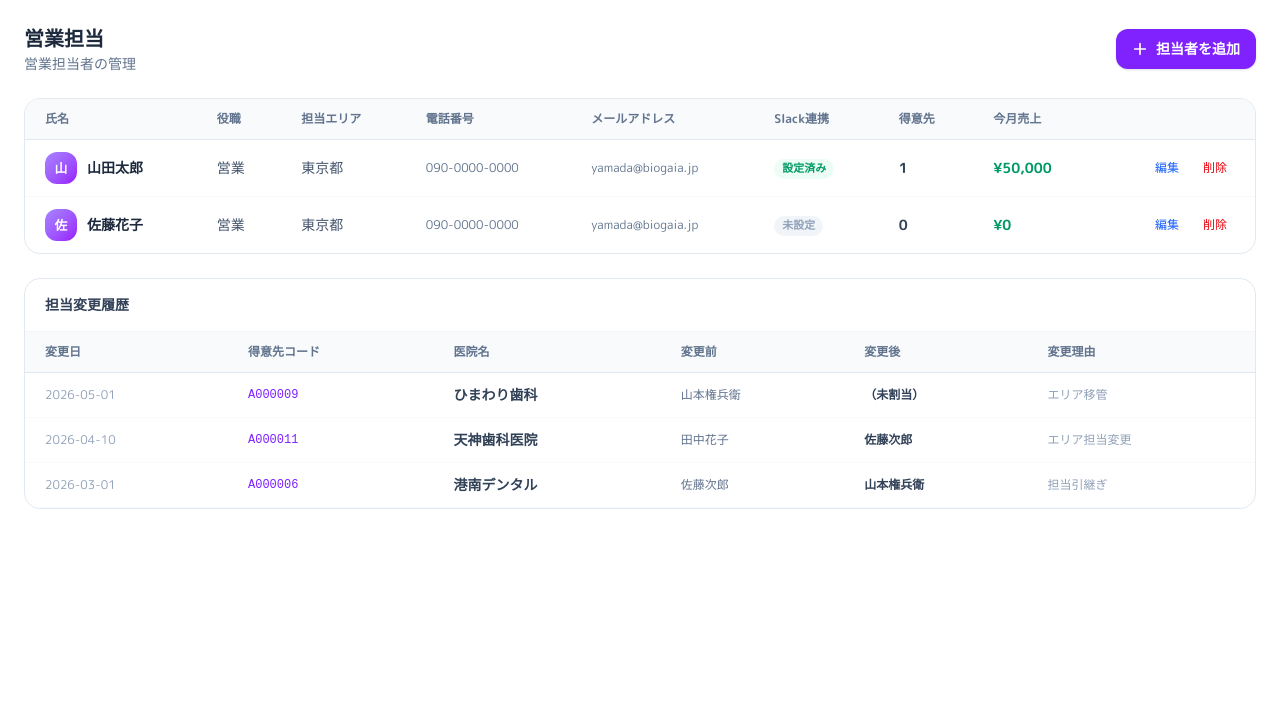
Test: StaffMasterPage › 編集ボタンから既存データがモーダルに反映される
expect the text "山田太郎" is shown: met, box [87,158,143,178]
Click the button "編集" in the row of "山田太郎" at (1167, 168), box [1147,156,1187,180]
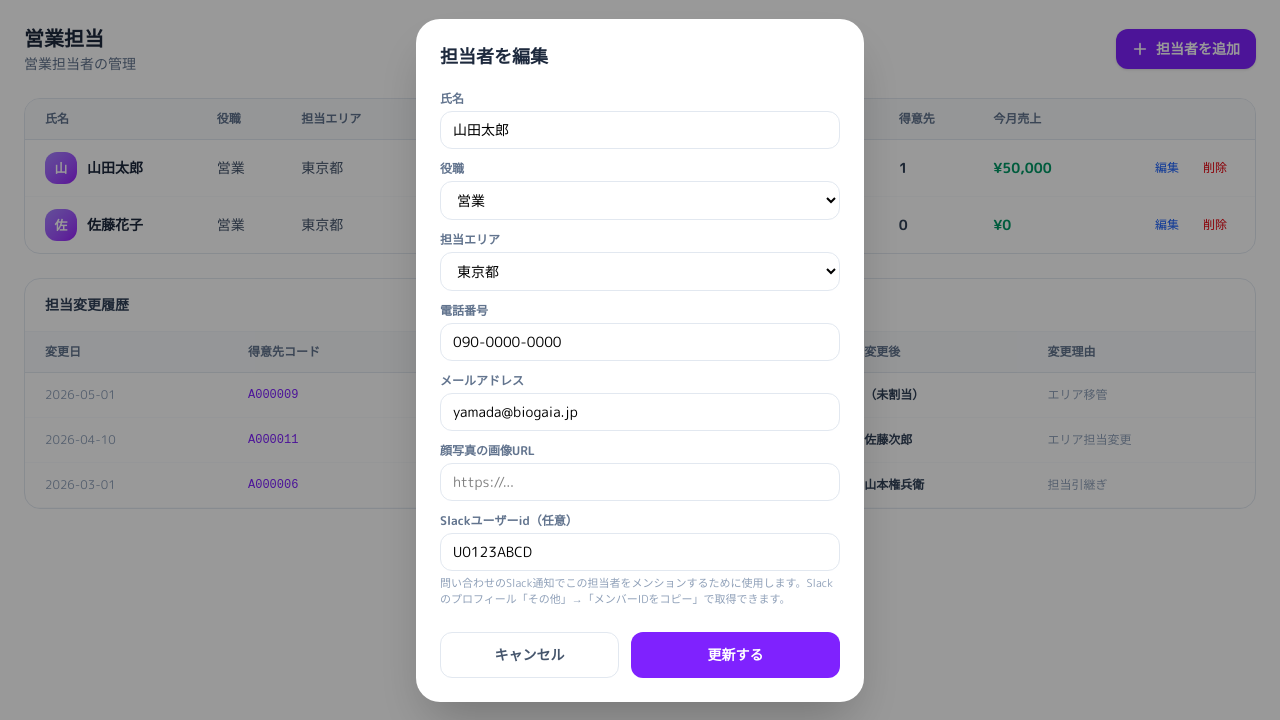
expect the 1st field showing "山田太郎" is shown: met, box [440,110,840,148]
expect the 2nd field showing "090-0000-0000" is shown: met, box [440,322,840,360]
